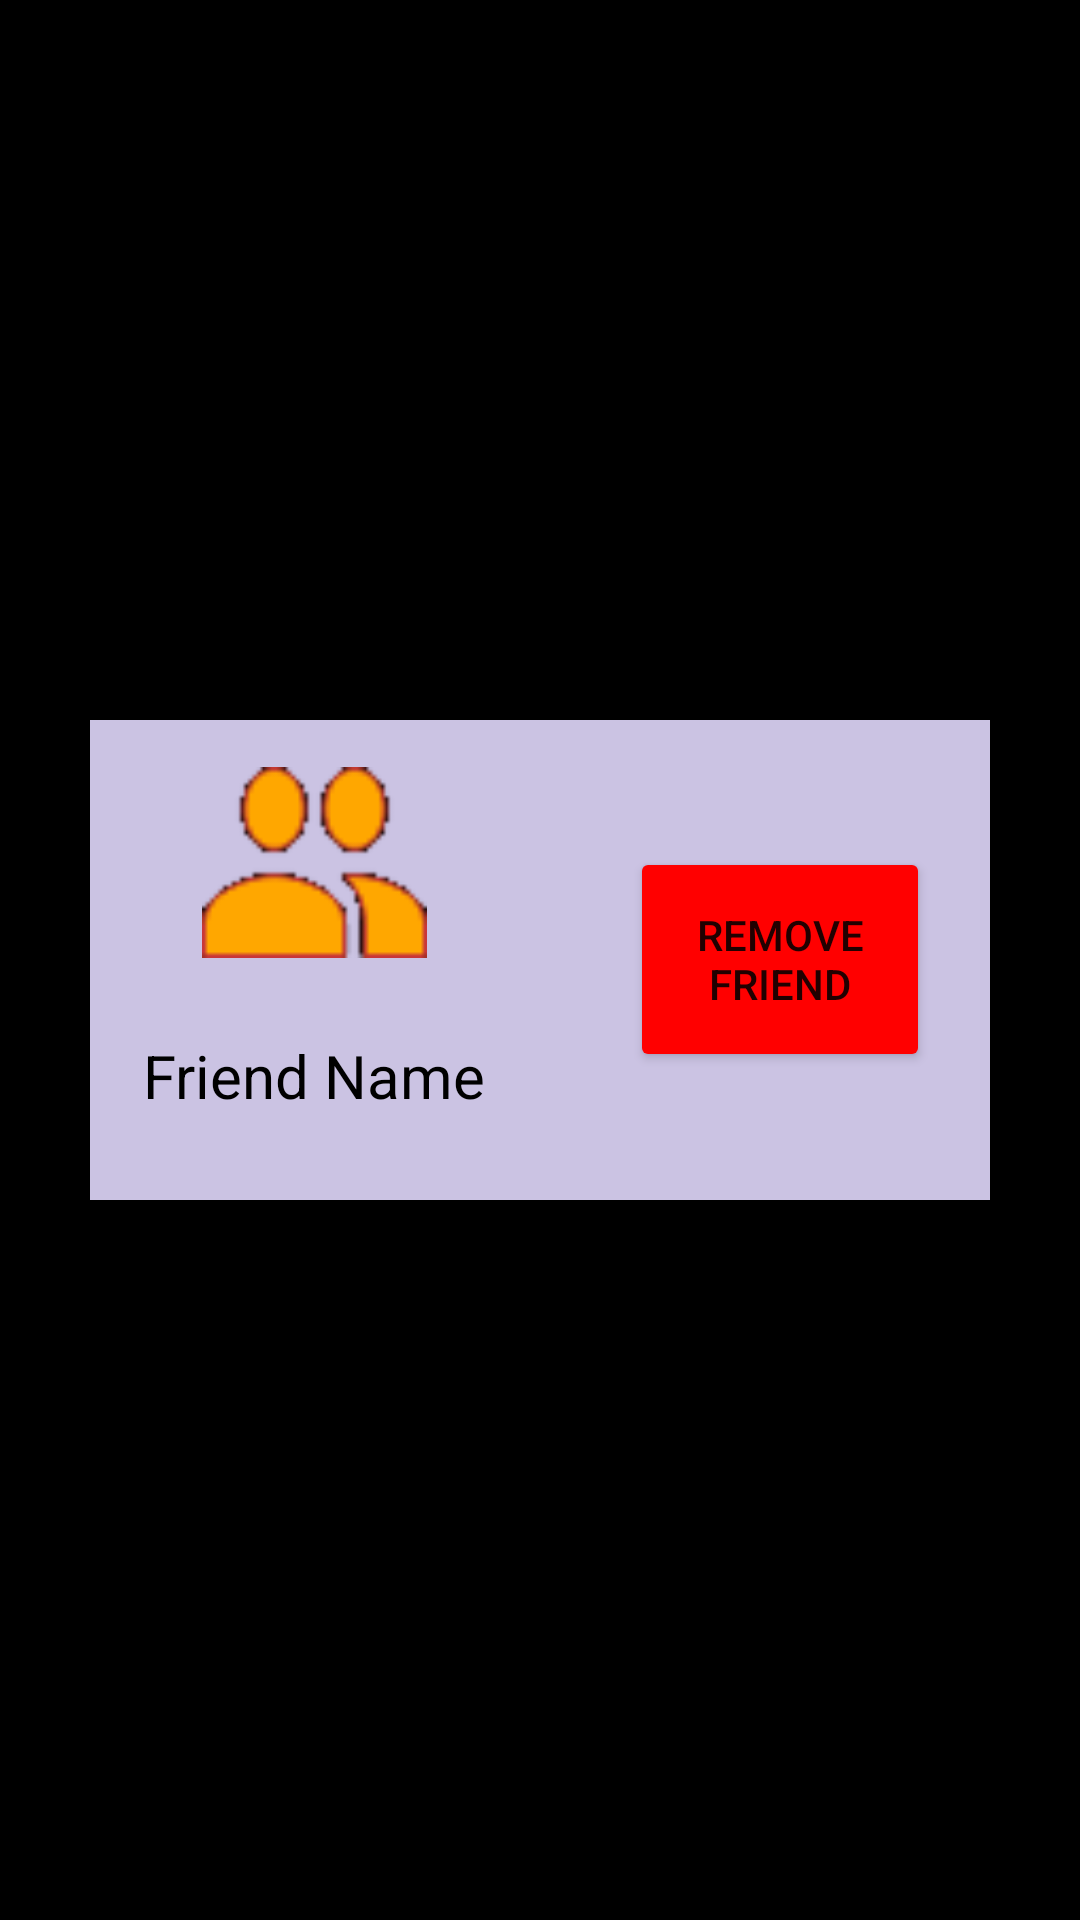

Icon click points for this 1080w x 1920h phone screenshot, format [x,y]:
socialicon: [314,862]
